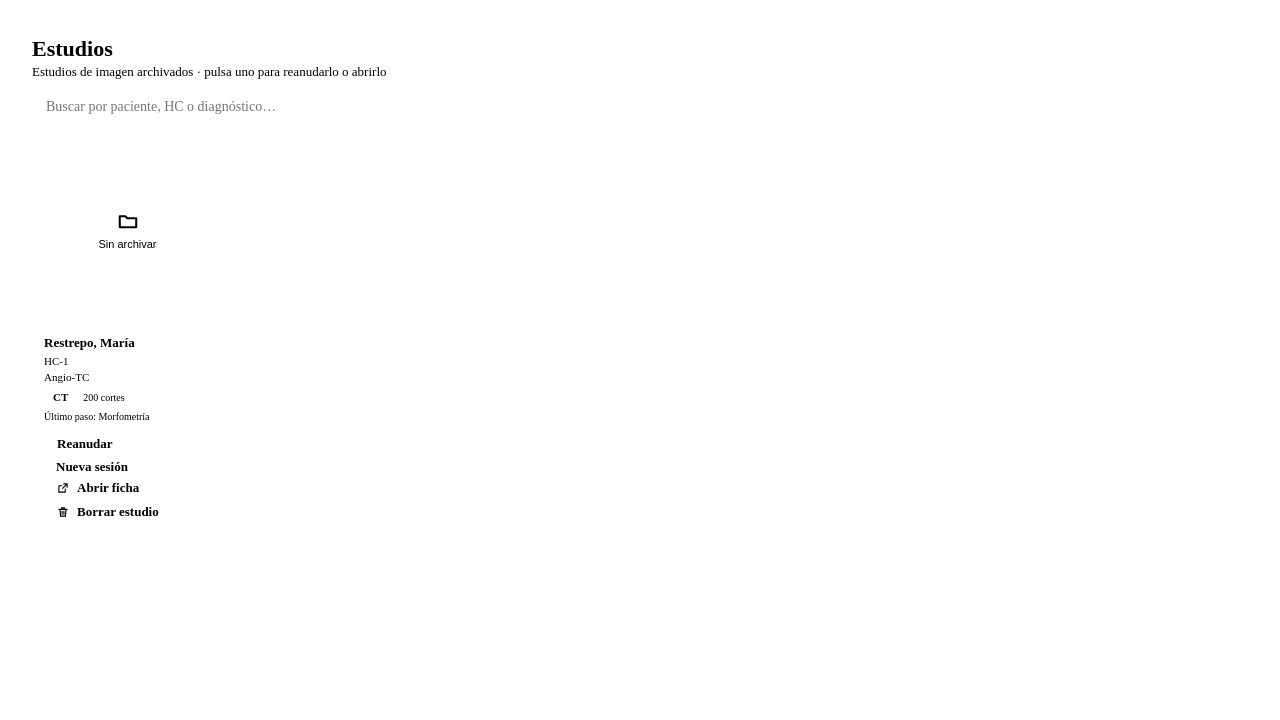
Test: «Estudios»: tarjeta y borrado (F2-33, F2-34, F2-35) › si el servidor rechaza el borrado, dice por qué y la tarjeta se queda
What coordinates should you click on to do the following:
click the button "Borrar estudio"
I would click on:
 (108, 512)
Its box is [44,503,172,521].
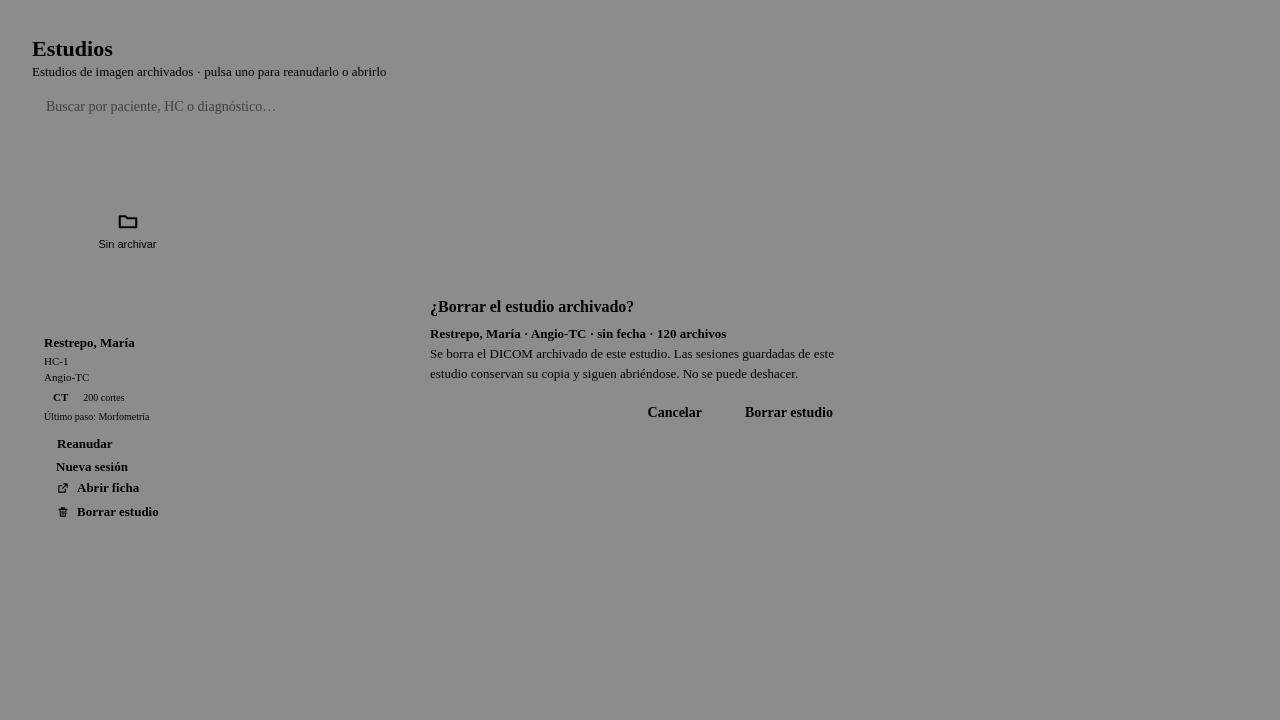
What coordinates should you click on to do the following:
click the button "Borrar estudio"
I would click on:
 (789, 413)
Its box is [728,404,850,422].
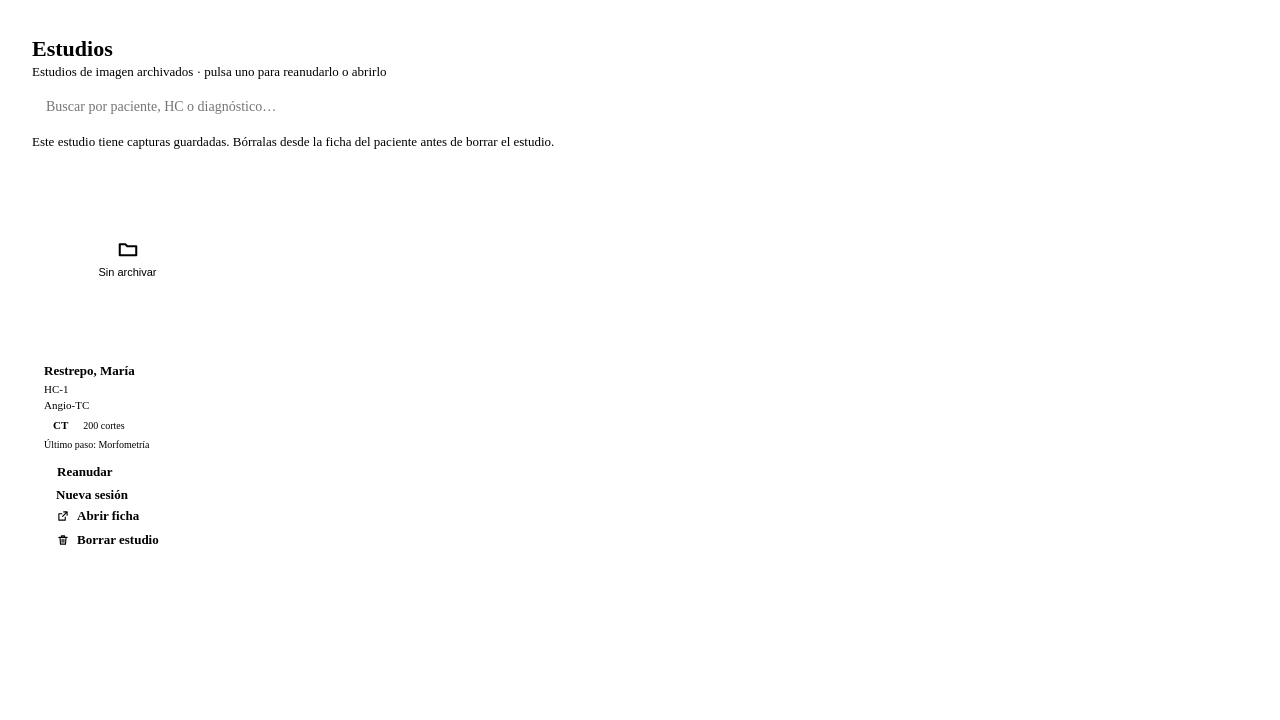
Check: the text "Restrepo, María" is shown, box [44,363,135,378]
Check: the text "tiene capturas guardadas" is shown, box [32,134,554,149]
